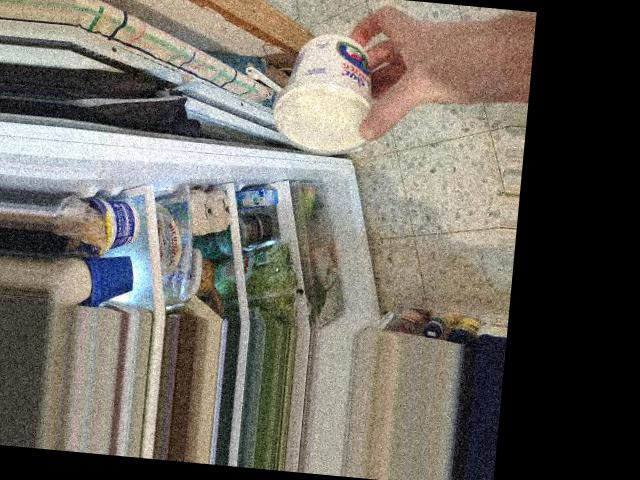cotage: (272, 23, 392, 155)
